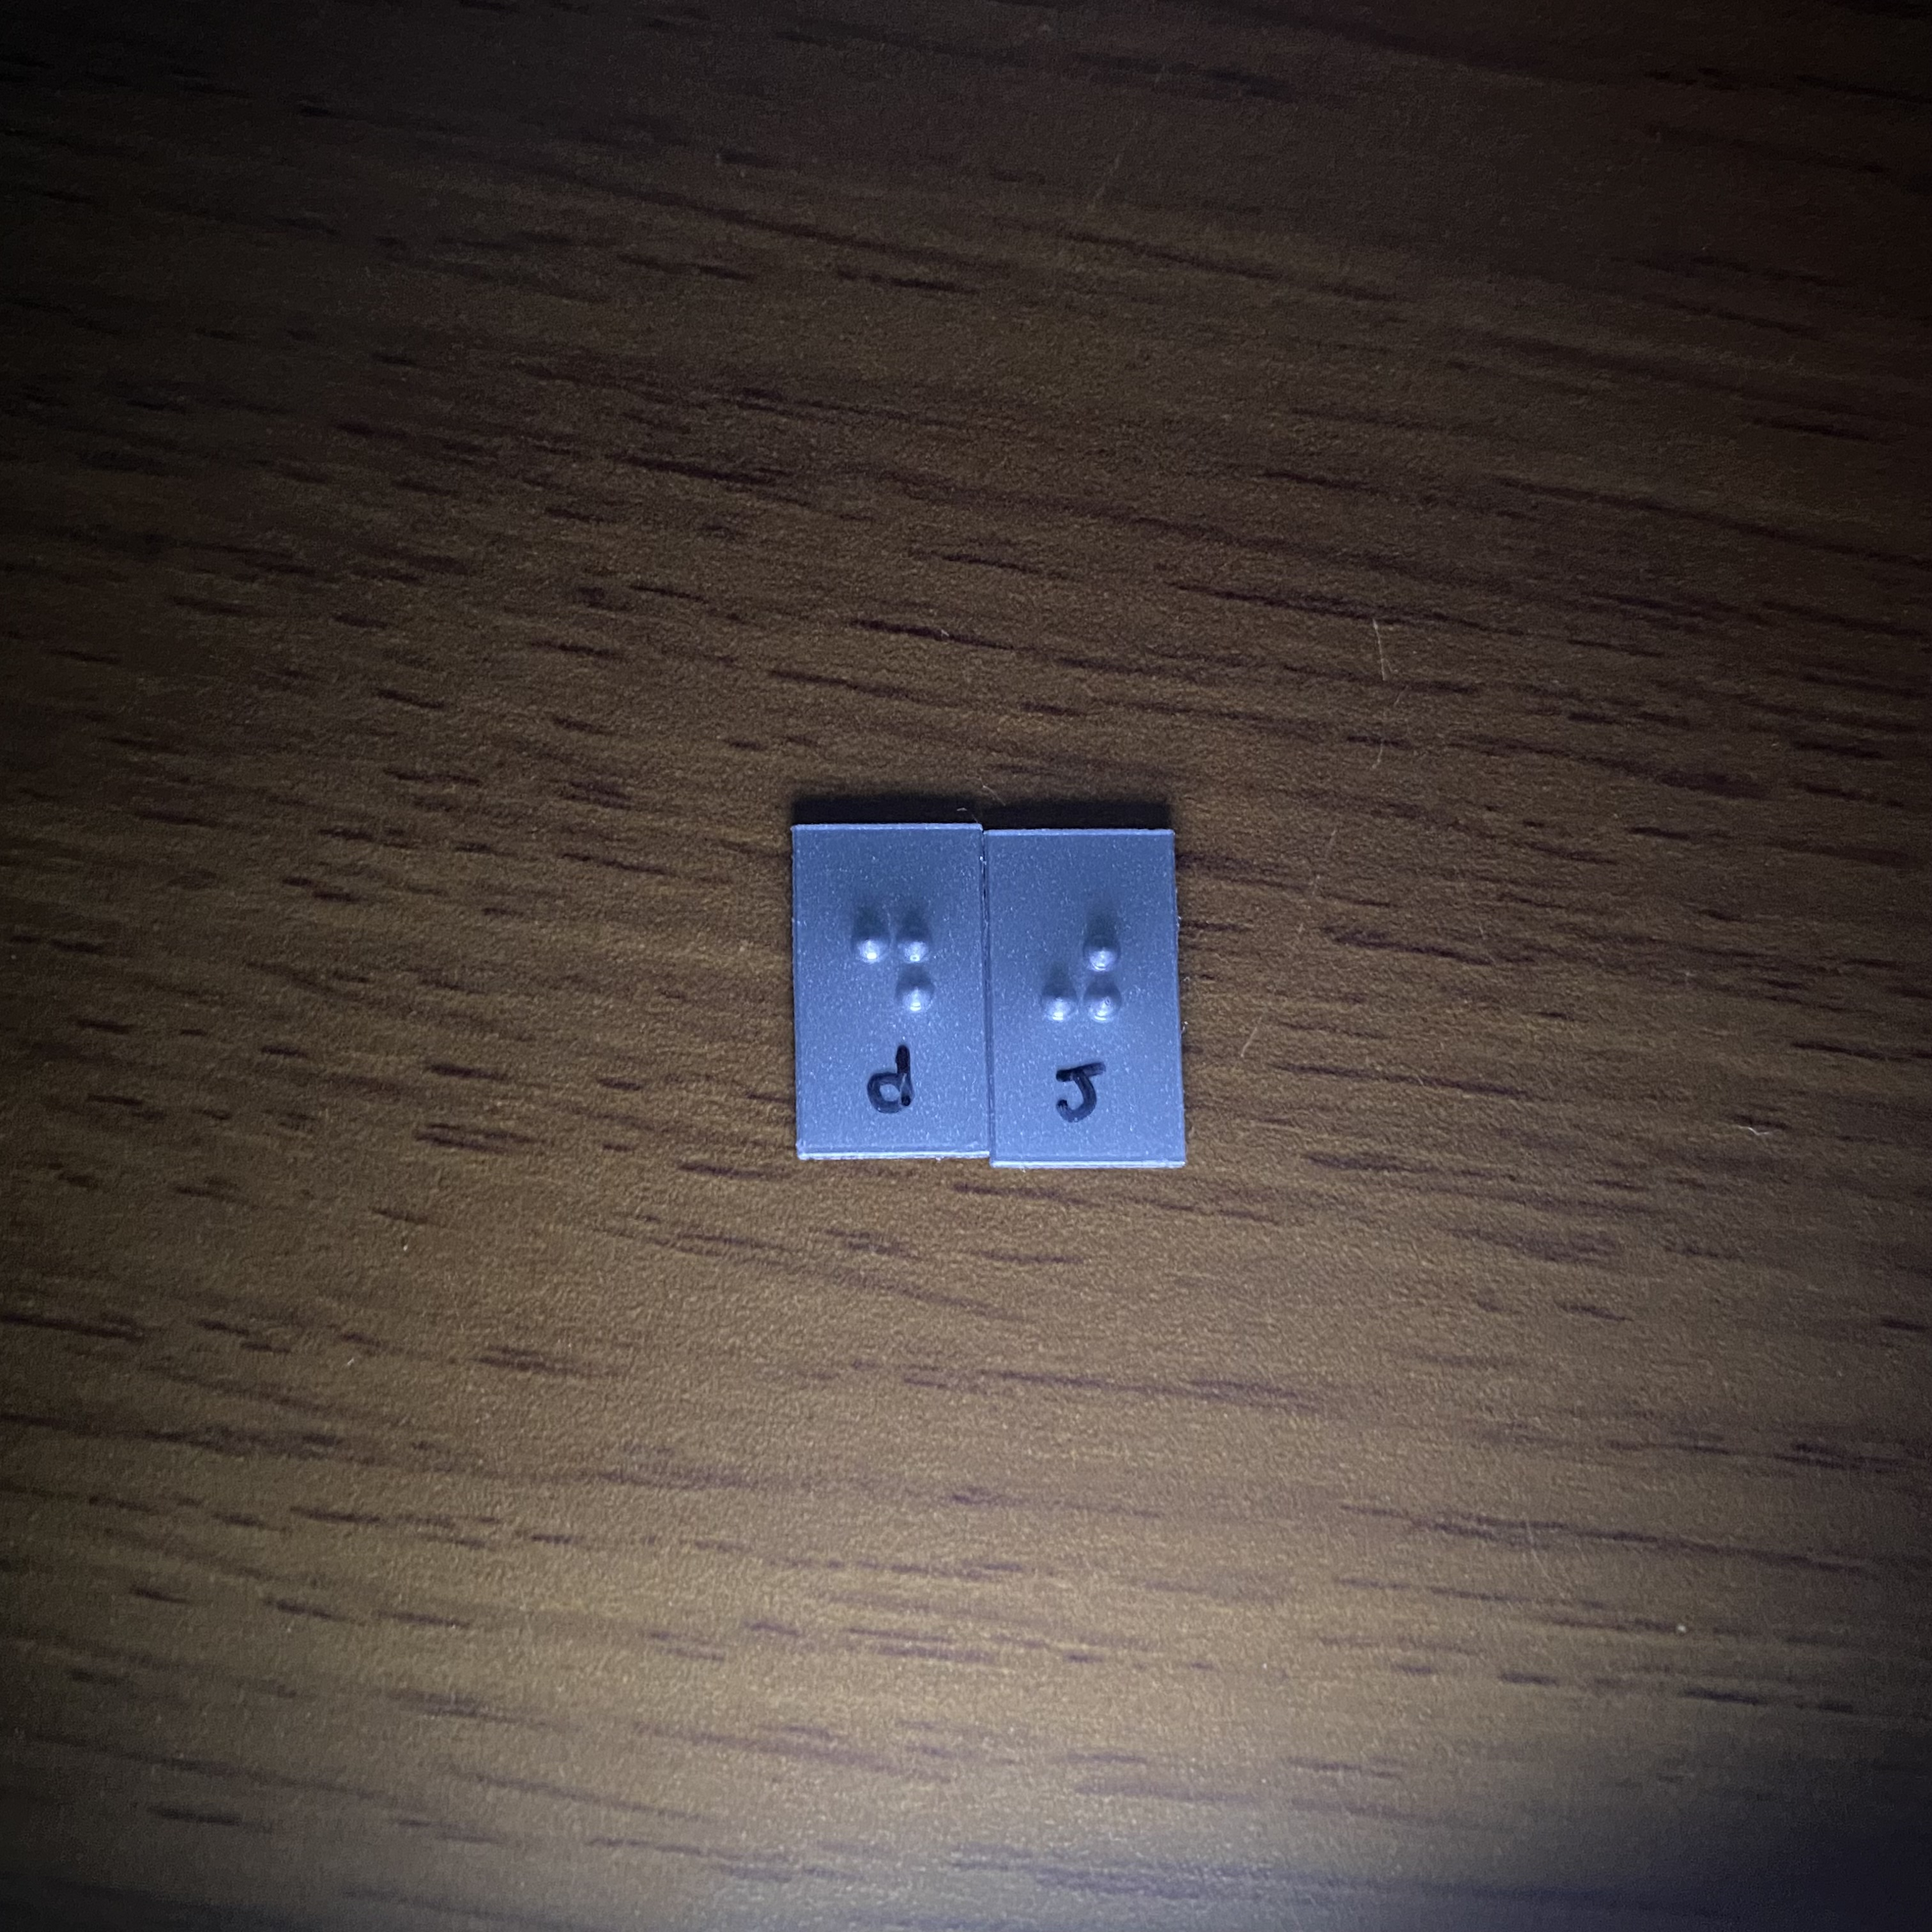d: (839, 896, 952, 1044)
j: (1027, 903, 1131, 1042)
